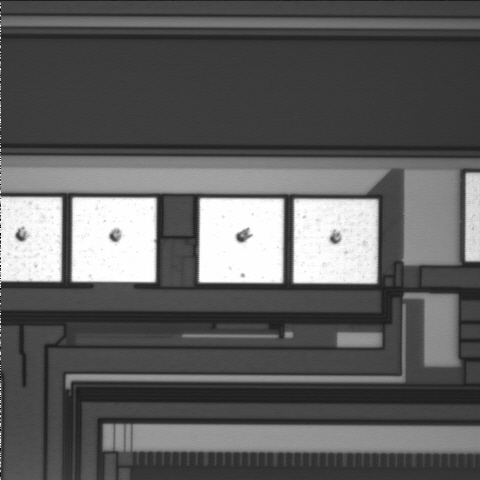pad: (199, 198, 284, 283), (293, 199, 378, 284), (72, 197, 156, 282)
